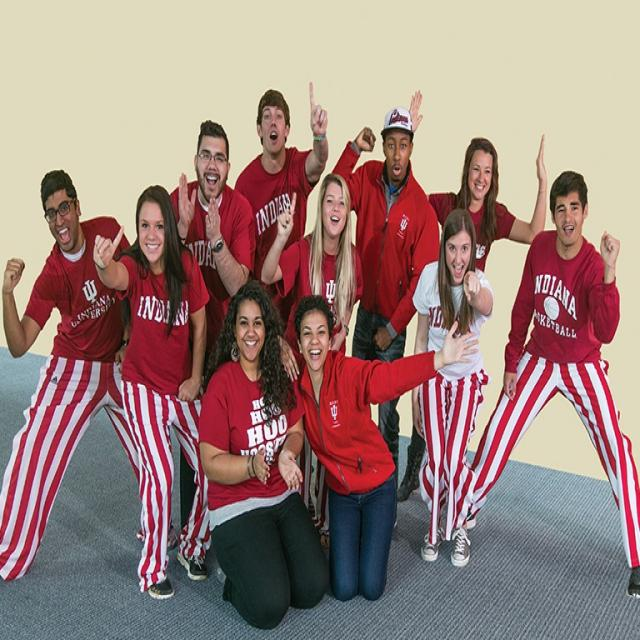body: (460, 167, 640, 604), (0, 166, 182, 584), (266, 290, 482, 608), (397, 89, 549, 502), (90, 181, 222, 605), (192, 274, 334, 634), (328, 102, 442, 548), (167, 118, 259, 536), (408, 205, 498, 573), (232, 79, 331, 338), (259, 171, 365, 359)
